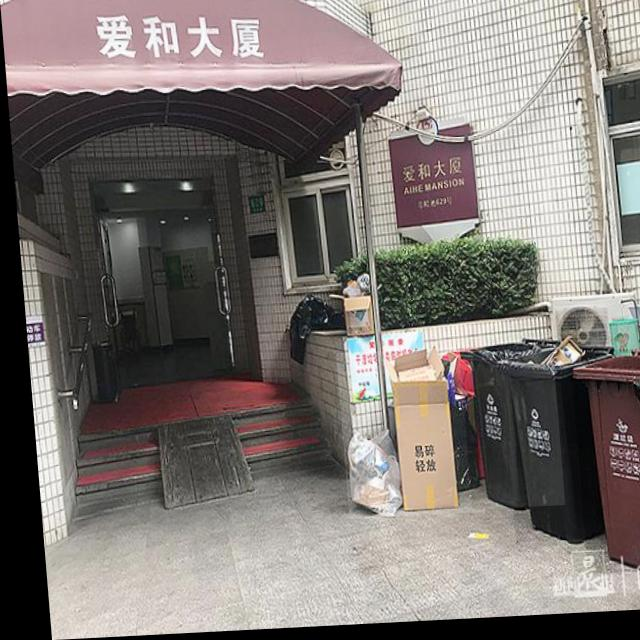garbage: (330, 351, 476, 523)
garbage_bin: (452, 342, 556, 515), (563, 354, 640, 580)
overflow: (494, 342, 618, 548)
